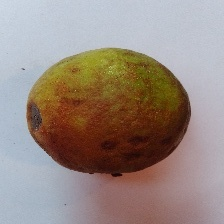guava: (43, 33, 187, 217)
